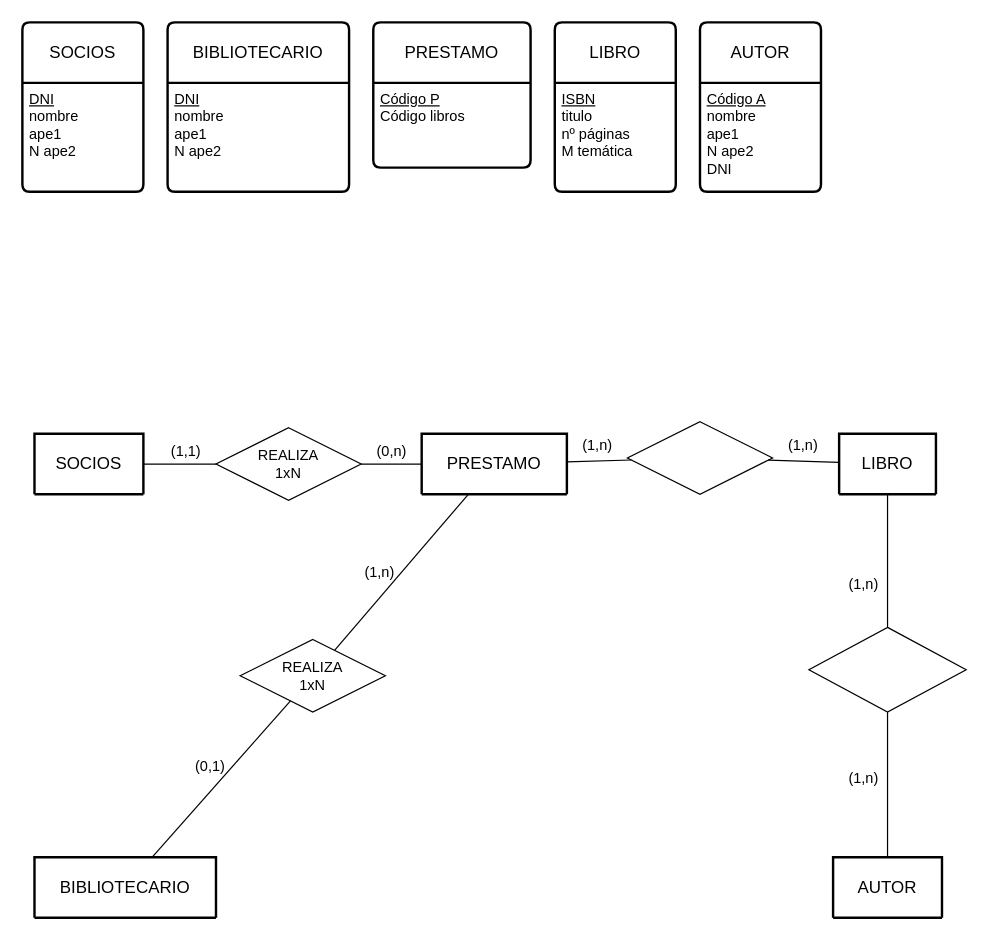
This 987x939 diagram has some shape labels left out. The shapes that lost their labels are listed below. From the top down, each one's box as (x1, y1, x2, y2) in pixels, then its label:
(626, 420, 773, 494): CONTIENE NxM
(808, 626, 966, 712): PERTENECEN NxM
